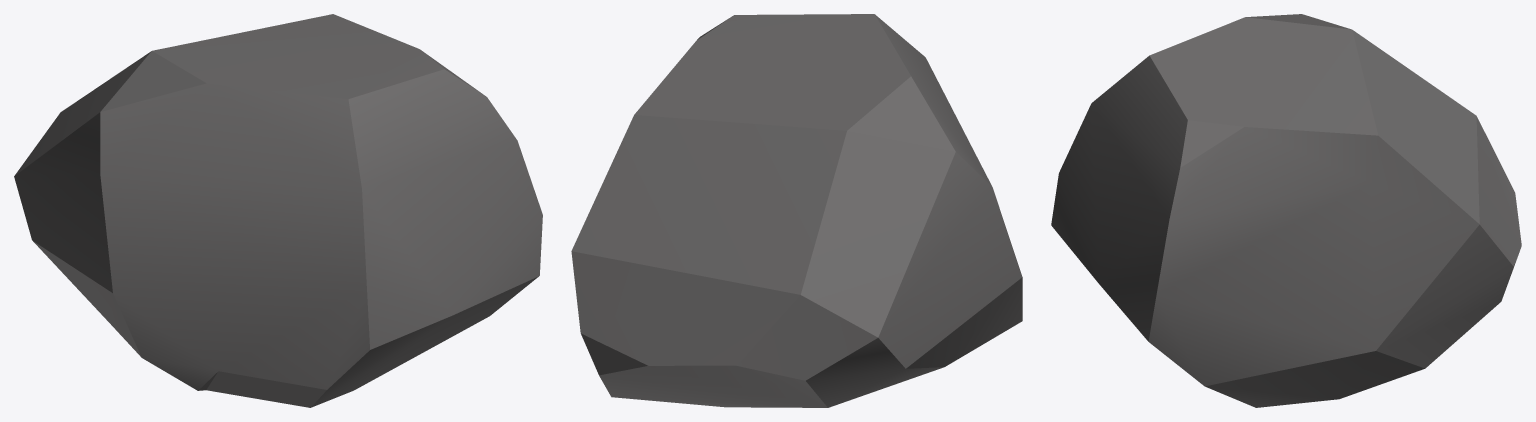
File: RockG.fbx
3 renders of one model, left to right at view 1: azimuth 30°, elevation 25°; view 2: azimuth 150°, elevation 25°; view 3: azimuth 270°, elevation 25°, orthographic. The views are drawn at different scales.
Visible parts, largest first — view 1: RockG; view 2: RockG; view 3: RockG.
Part boxes in pixels (x1,y1,x2,y2): RockG: (14, 14, 542, 407); RockG: (571, 14, 1022, 407); RockG: (1051, 14, 1521, 407).
Size of the model in its own units: 169 by 140 by 196.
